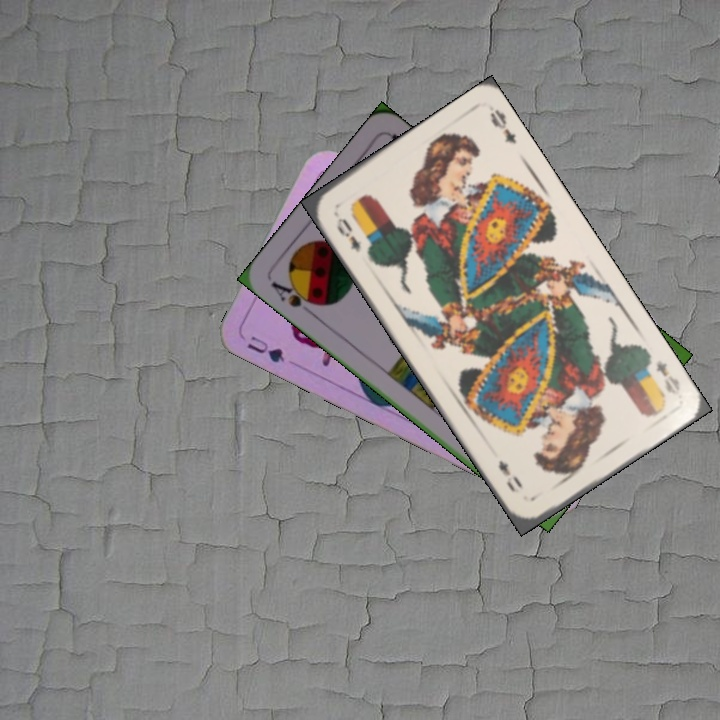EO: (330, 208, 364, 255), (651, 356, 683, 398)
GU: (243, 331, 288, 366)
SA: (266, 276, 323, 319)
